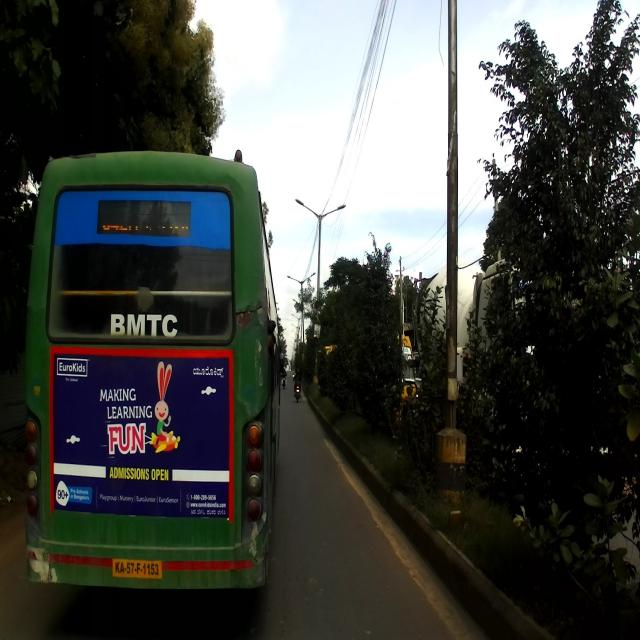bus: (22, 142, 284, 587)
